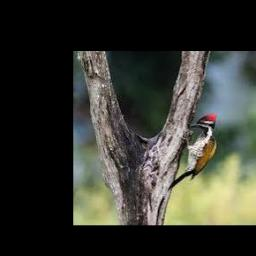Woodpecker: (168, 114, 216, 189)
